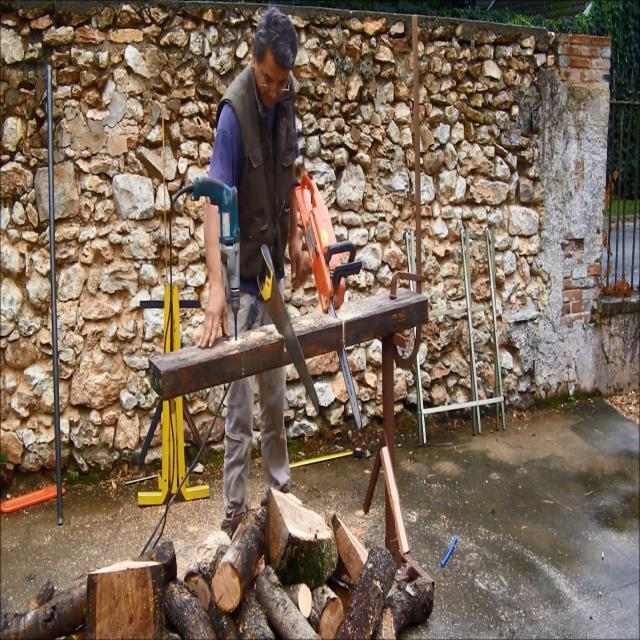Chainsaw: (286, 157, 384, 436)
